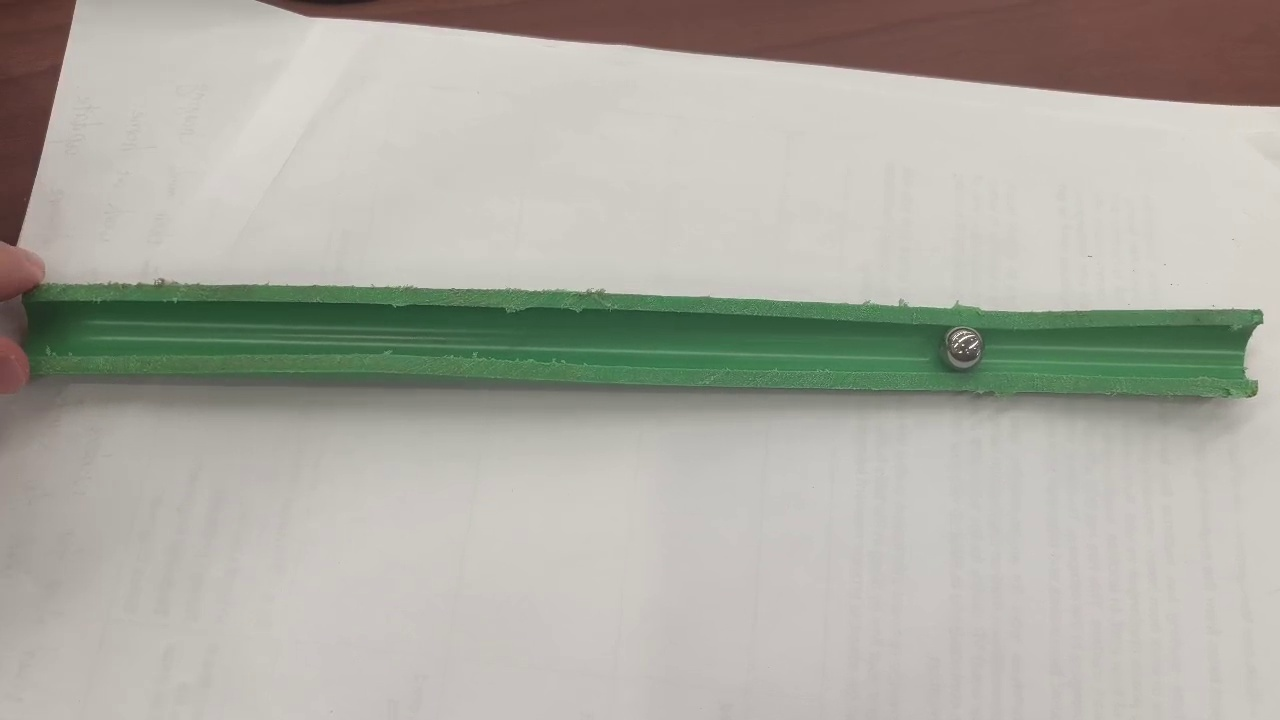ball: (946, 327, 983, 369)
